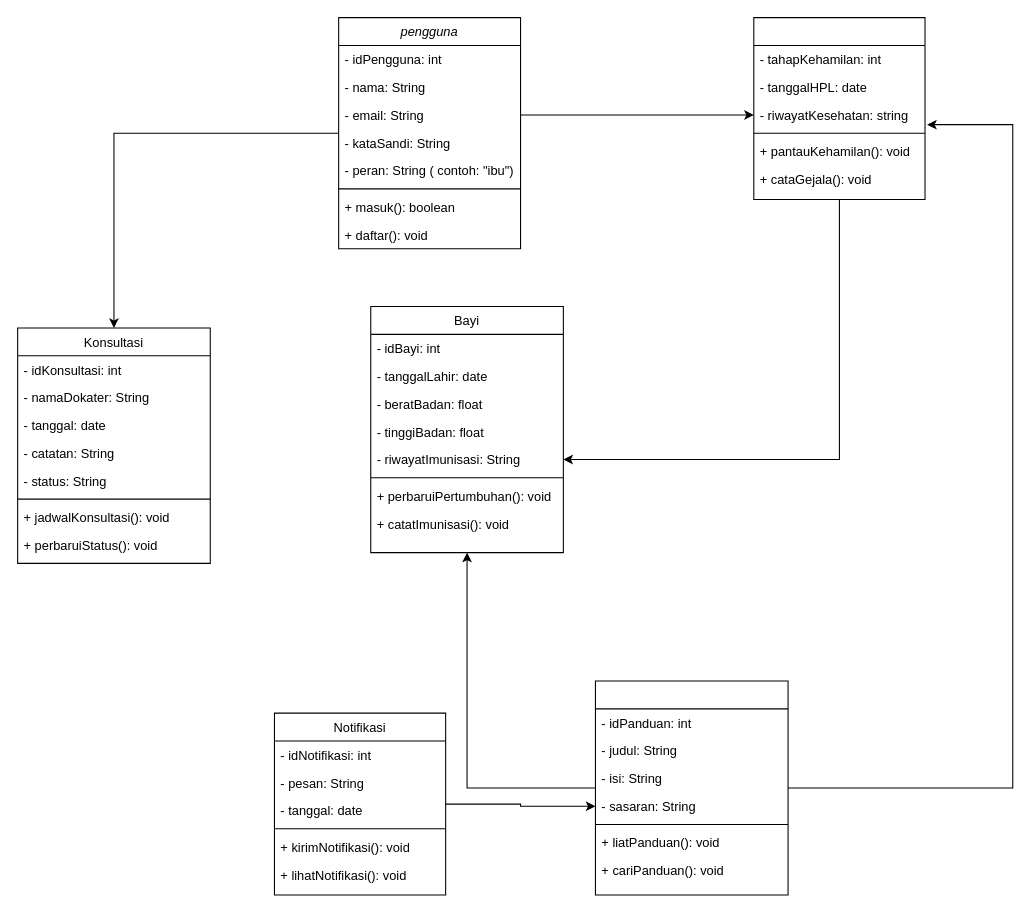
Image size: 1030x913. Some labels were removed from this diagram. The shapes that lost their labels are listed below. From the top down, each one's box as (x1, y1, x2, y2) in pixels, then its label:
(753, 17, 925, 200): Ibu
(594, 680, 788, 895): PanduanKesehatan
